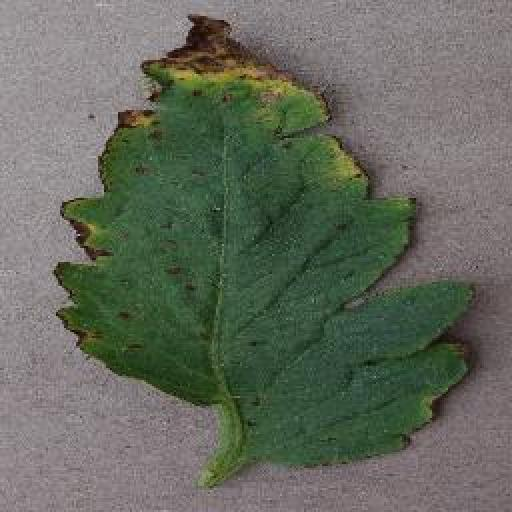Bacterial Spot: (50, 10, 482, 474)
